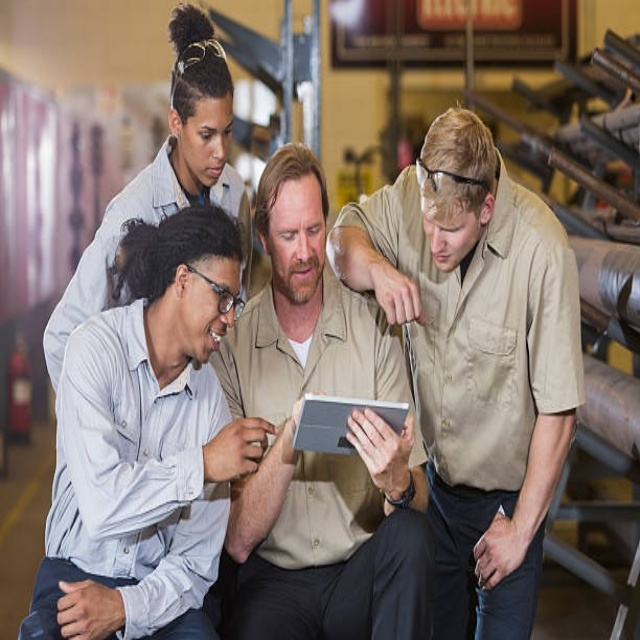Gafas: (186, 264, 248, 323)
Sin_gafas: (271, 212, 323, 246), (422, 209, 474, 240), (189, 113, 235, 144)
Sin_guantes: (207, 406, 279, 486), (347, 397, 416, 475), (470, 505, 527, 593), (53, 576, 121, 635)
Sin_mascara: (192, 325, 226, 358), (285, 262, 322, 289), (199, 157, 229, 185), (430, 246, 455, 275)
